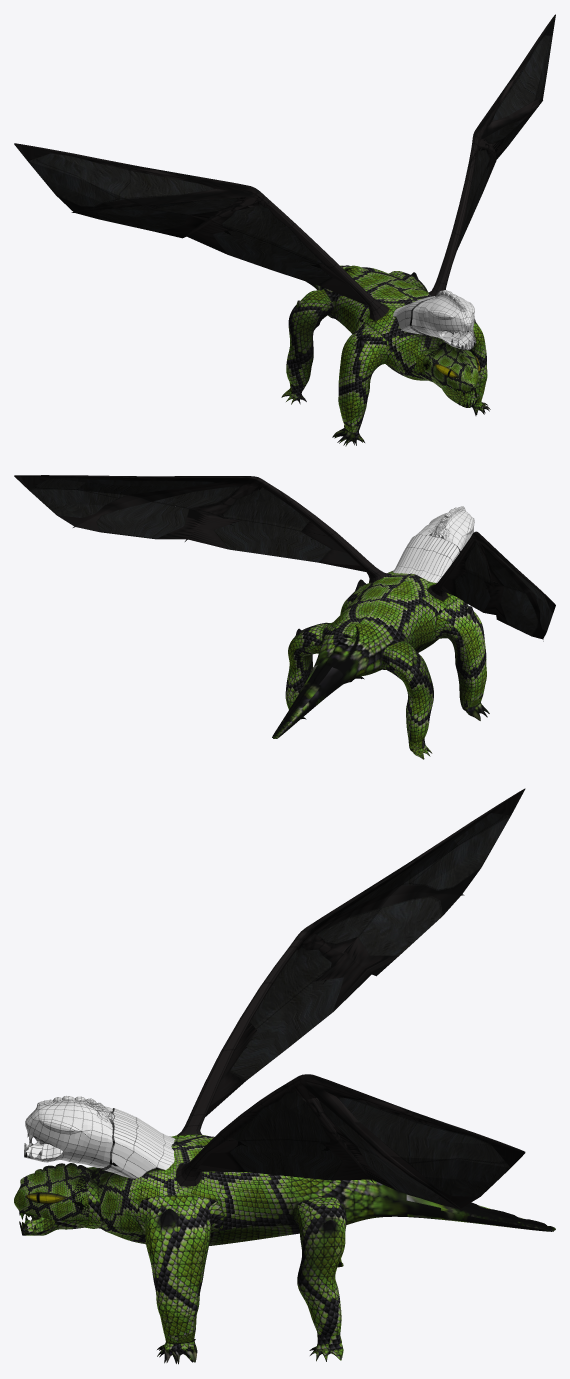
The model's file is monster_000007.obj.
3 views of the same model, one above another, from view 1: azimuth 30°, elevation 25°; view 2: azimuth 150°, elevation 25°; view 3: azimuth 270°, elevation 25° (orthographic). The views are drawn at different scales.
Visible parts, largest first — view 1: body_Cube, secondHead_Cube.002; view 2: body_Cube, secondHead_Cube.002; view 3: body_Cube, secondHead_Cube.002.
Part boxes in pixels (x1=…): body_Cube: x1=14, y1=14, x2=555, y2=446; secondHead_Cube.002: x1=393, y1=290, x2=476, y2=350; body_Cube: x1=14, y1=475, x2=555, y2=759; secondHead_Cube.002: x1=392, y1=506, x2=474, y2=582; body_Cube: x1=14, y1=788, x2=555, y2=1364; secondHead_Cube.002: x1=24, y1=1095, x2=175, y2=1178.
Size of the model in its own units: 8.66 by 3.9 by 5.51.
